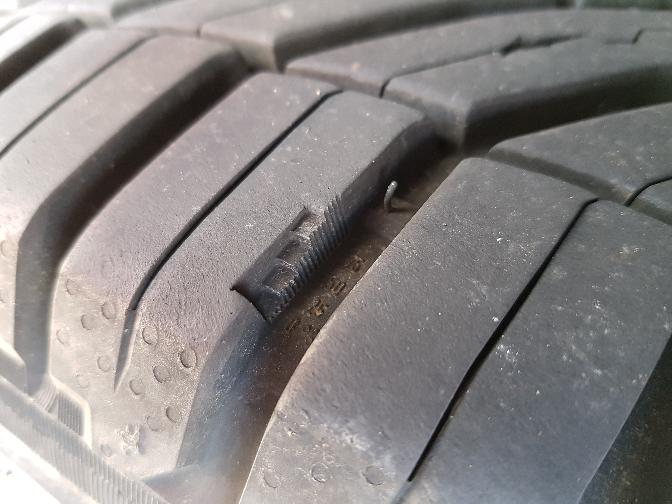temoin:90: (223, 187, 355, 336)
